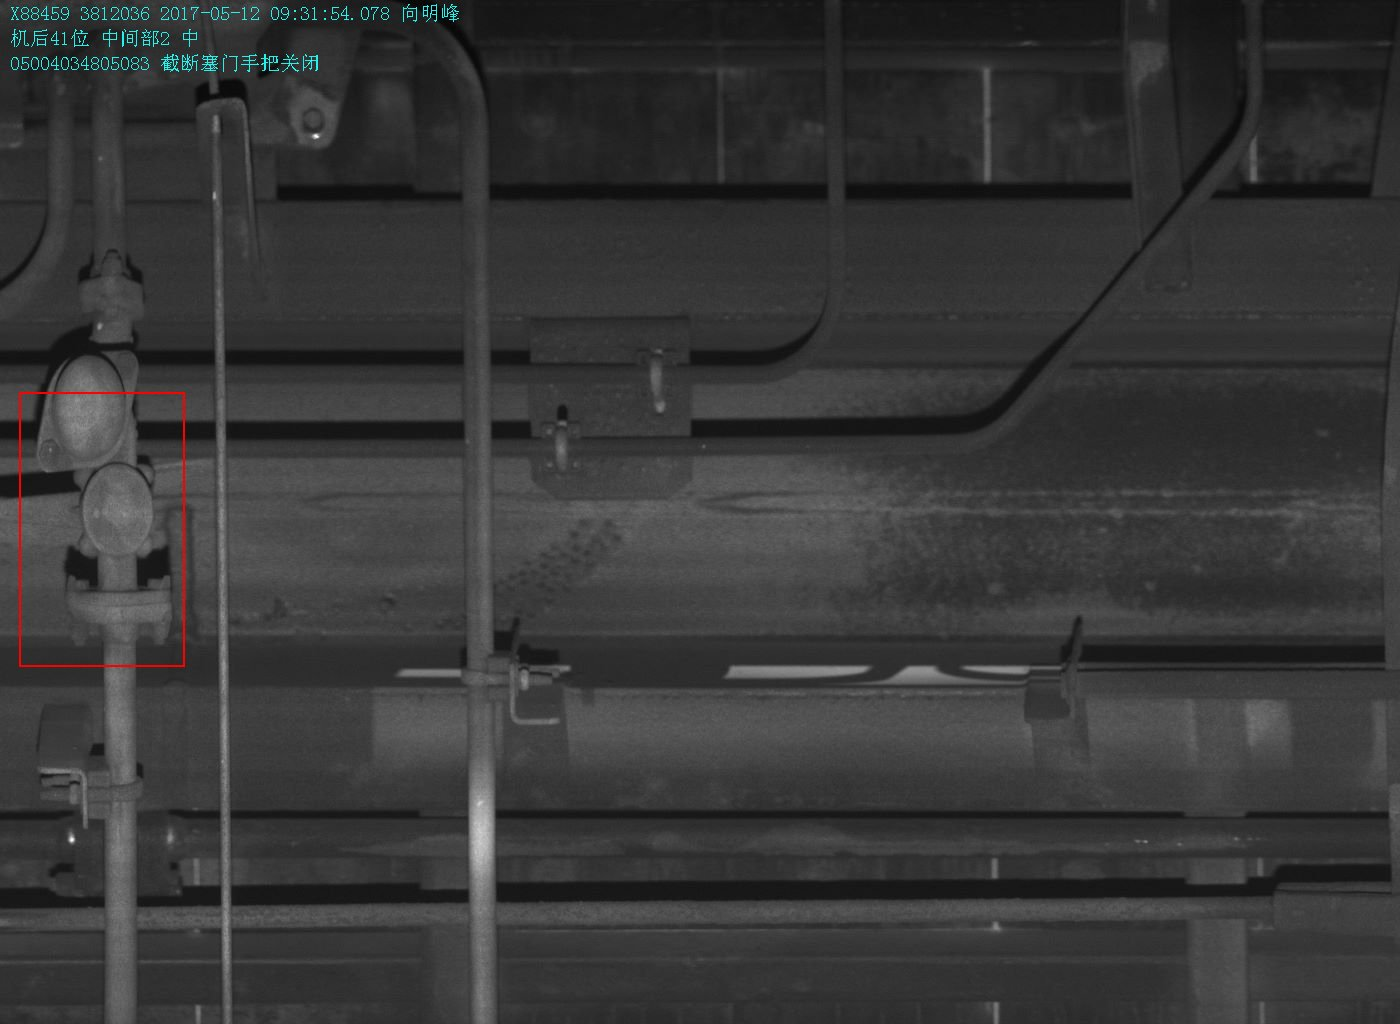truncated plug door handle: (1, 463, 154, 559)
